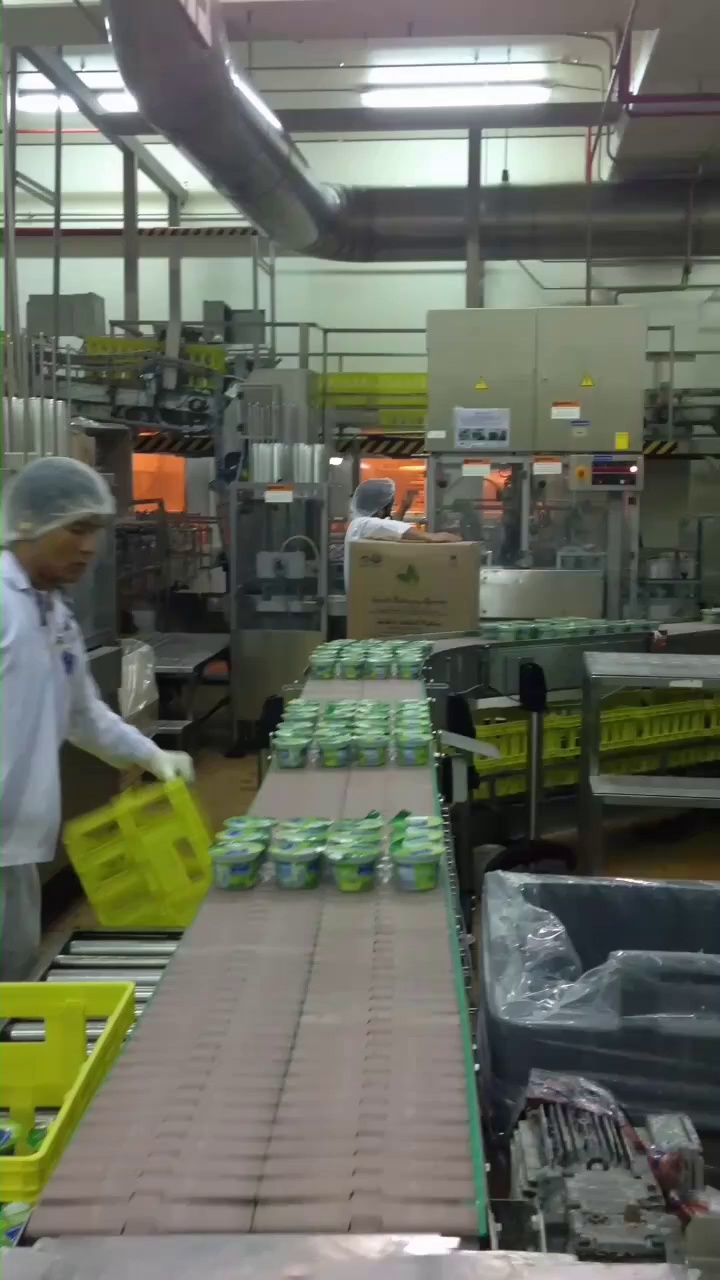employé: (3, 444, 153, 955), (315, 444, 464, 622)
machine: (6, 587, 720, 1239)
produit: (200, 797, 455, 915), (273, 678, 438, 781), (313, 632, 434, 678), (492, 619, 564, 643), (554, 625, 664, 638)
